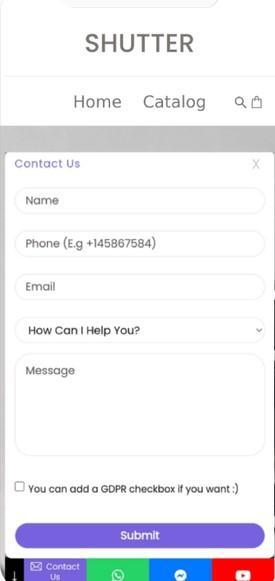button: (16, 524, 266, 550)
checkbox: (14, 481, 27, 493)
dropdown: (16, 317, 267, 345)
icon: (251, 95, 265, 112), (251, 156, 265, 173), (235, 95, 248, 112)
input: (15, 273, 266, 302), (16, 230, 266, 259), (15, 188, 268, 216)
label: (29, 484, 240, 496), (87, 34, 195, 54), (145, 93, 207, 112), (75, 93, 124, 114), (15, 159, 83, 170)
